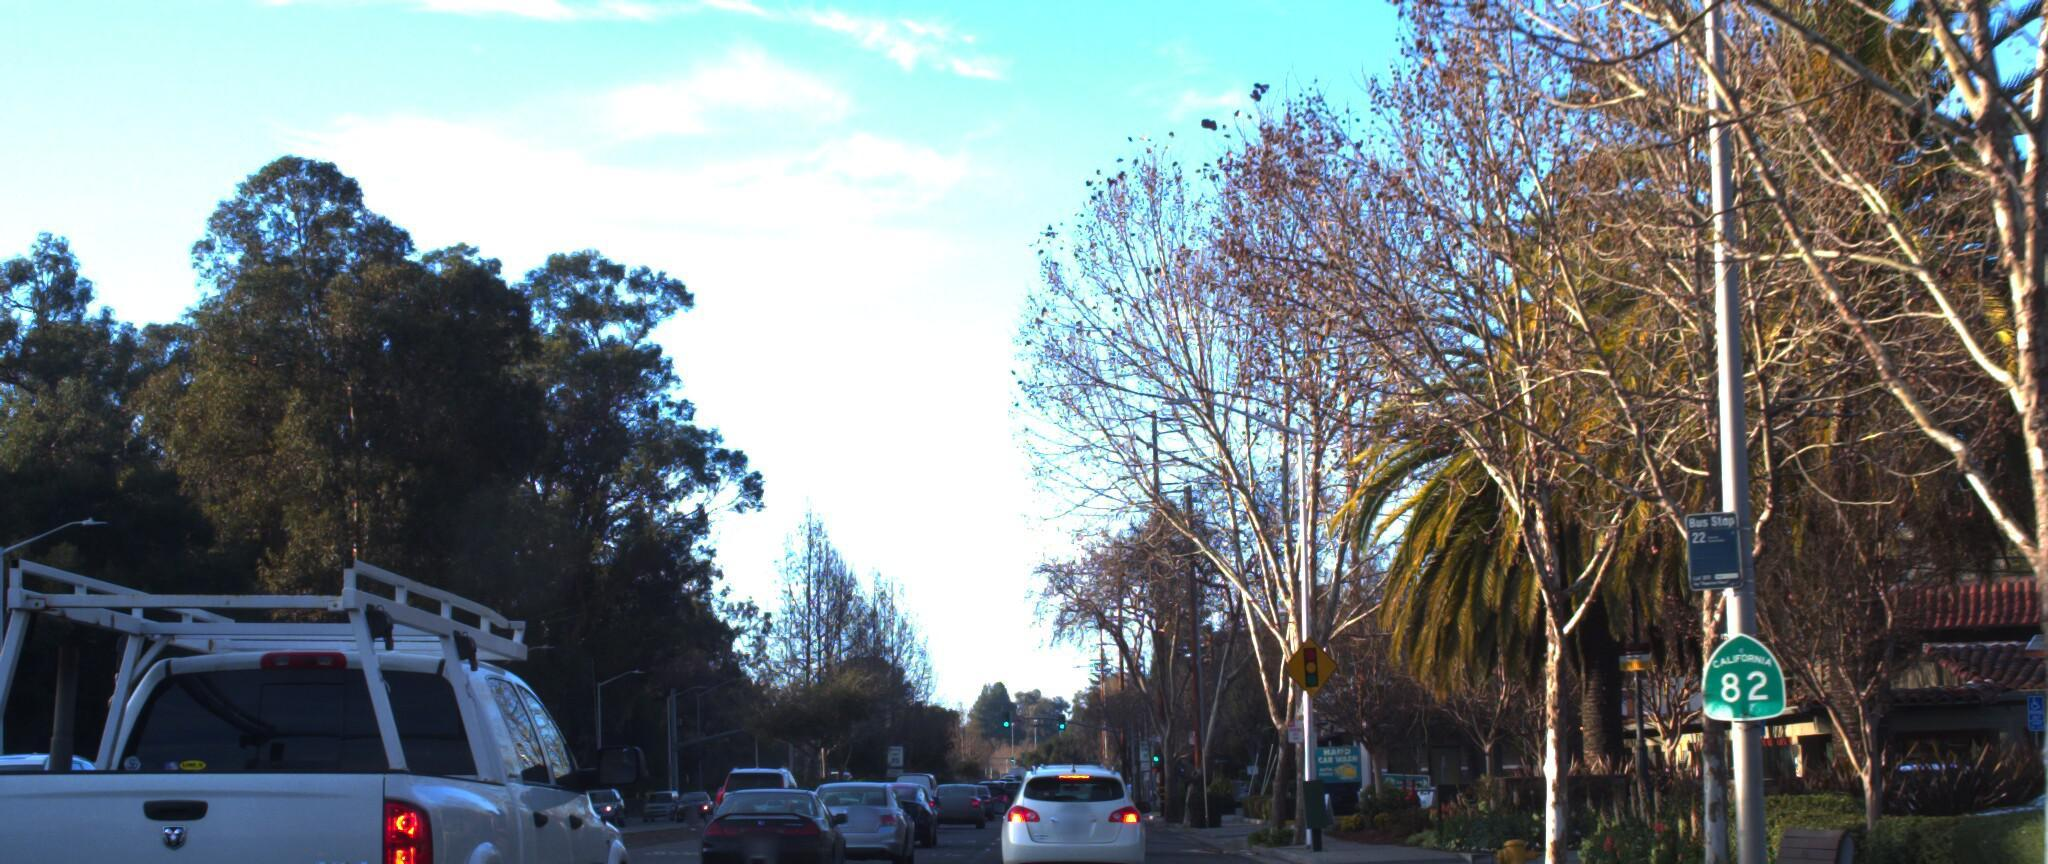car: (0, 532, 661, 864), (997, 740, 1155, 864), (0, 731, 142, 864), (700, 760, 853, 864), (797, 754, 920, 861)
